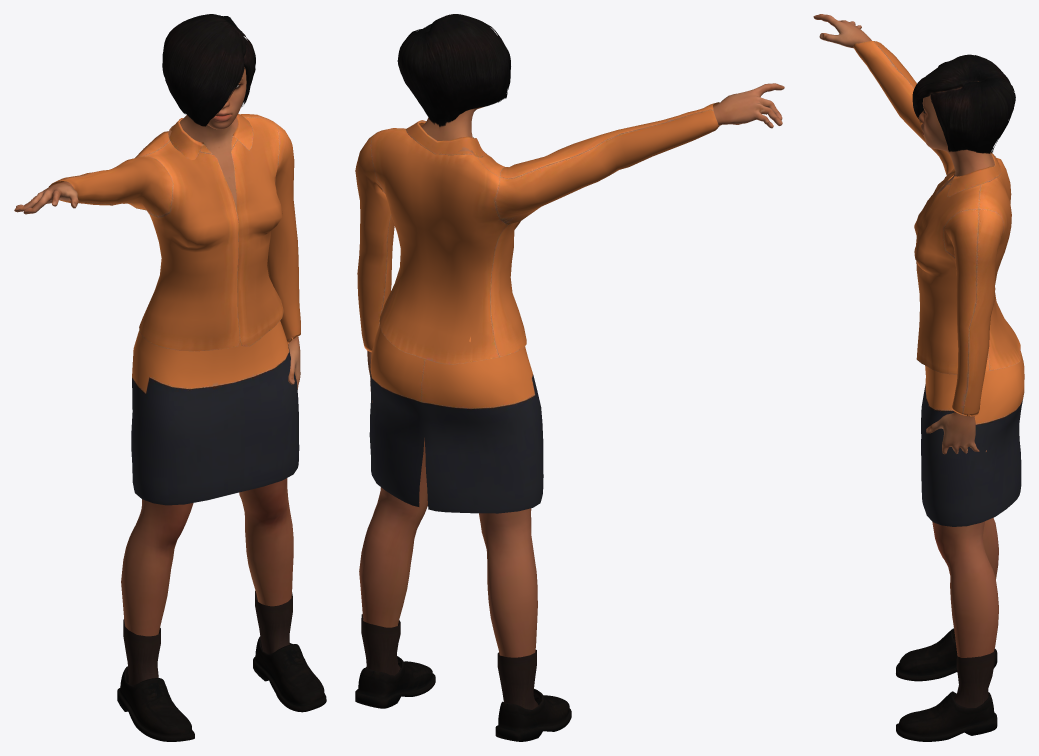
The model's file is tch_point.glb.
3 renders of one model, left to right at view 1: azimuth 30°, elevation 25°; view 2: azimuth 150°, elevation 25°; view 3: azimuth 270°, elevation 25°, orthographic. The views are drawn at different scales.
Visible parts, largest first — view 1: tch.female_elegantsuit01, tch, tch.shoes04, tch.bob01; view 2: tch.female_elegantsuit01, tch, tch.bob01, tch.shoes04; view 3: tch.female_elegantsuit01, tch, tch.bob01, tch.shoes04.
Part boxes in pixels (x1=…): tch.female_elegantsuit01: x1=48, y1=113, x2=300, y2=505; tch: x1=14, y1=67, x2=300, y2=636; tch.shoes04: x1=117, y1=591, x2=326, y2=741; tch.bob01: x1=162, y1=14, x2=255, y2=126; tch.female_elegantsuit01: x1=355, y1=102, x2=719, y2=513; tch: x1=359, y1=83, x2=784, y2=657; tch.bob01: x1=397, y1=14, x2=510, y2=127; tch.shoes04: x1=355, y1=614, x2=571, y2=741; tch.female_elegantsuit01: x1=853, y1=41, x2=1024, y2=526; tch: x1=813, y1=14, x2=998, y2=657; tch.bob01: x1=912, y1=54, x2=1015, y2=153; tch.shoes04: x1=896, y1=628, x2=997, y2=741.
Size of the model in its own units: 0.865 by 1.63 by 0.4839.
Materials: 7 (7 with a texture image).
